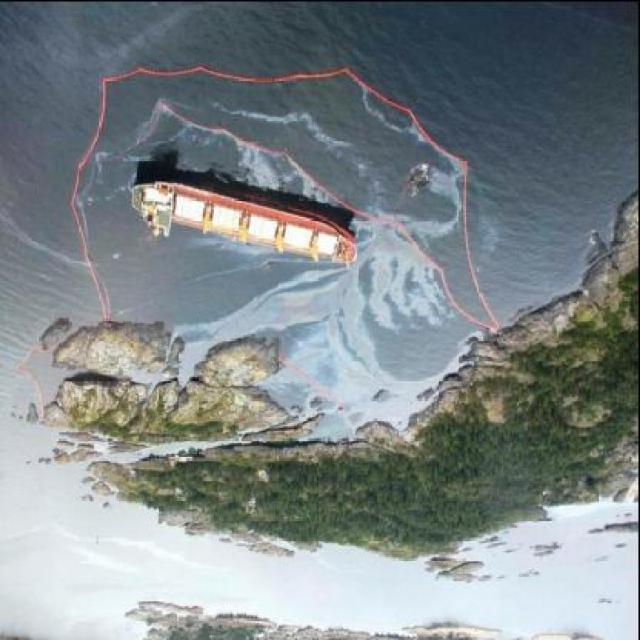sheen: (178, 229, 474, 439)
